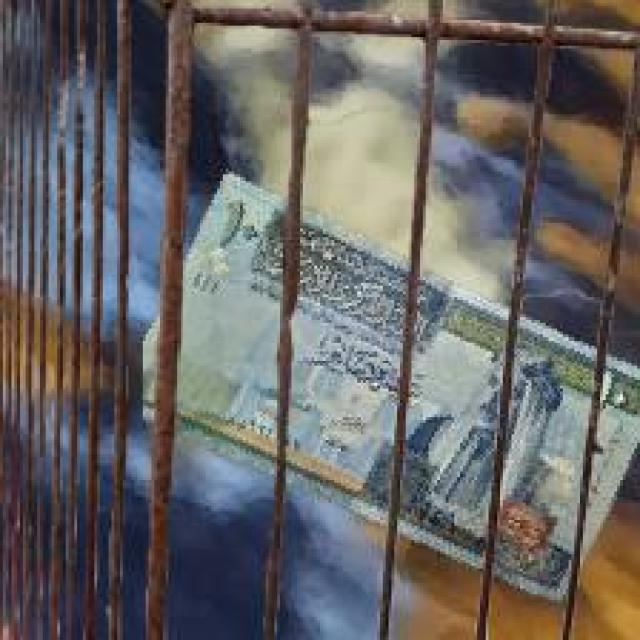10-dinar: (141, 172, 640, 602)
